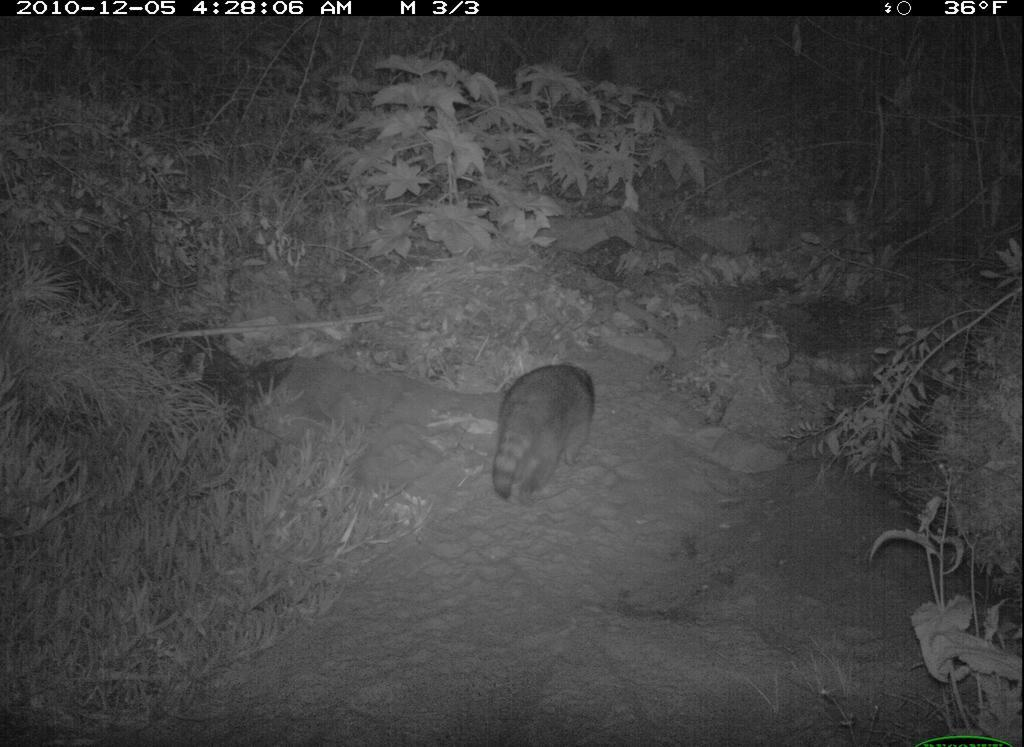raccoon: (469, 341, 619, 529)
